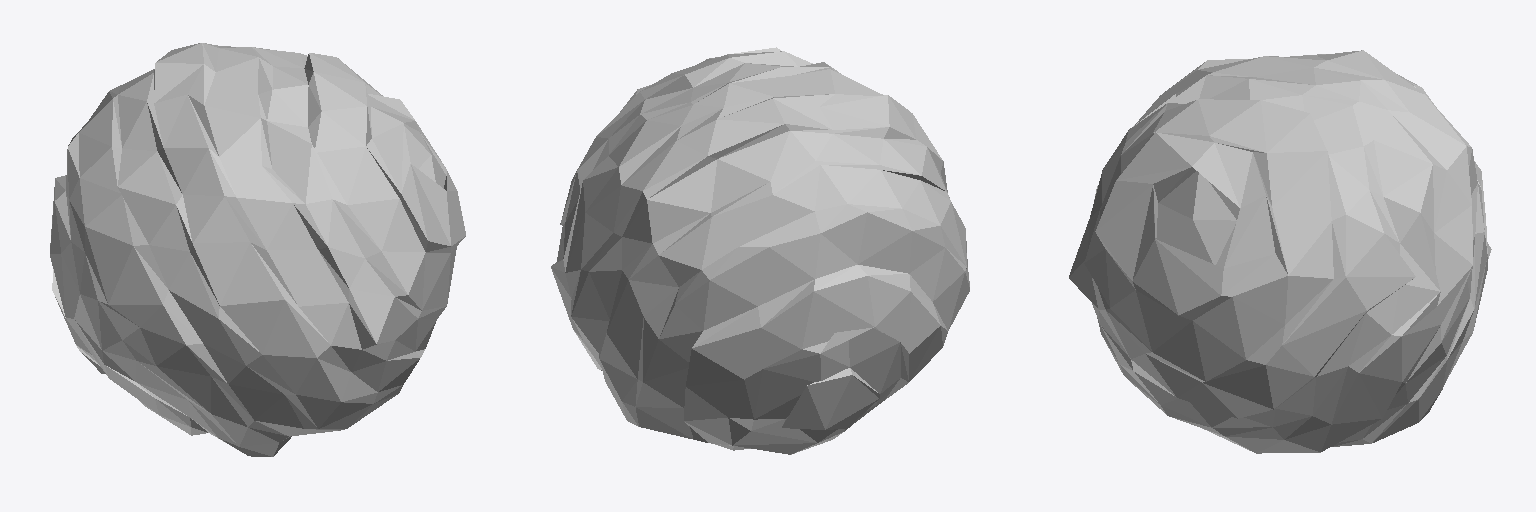
Rendered from jupiter.obj.
3 views of the same model, side by side, from view 1: azimuth 30°, elevation 25°; view 2: azimuth 150°, elevation 25°; view 3: azimuth 270°, elevation 25° (orthographic).
Visible parts, largest first — view 1: Jupiter; view 2: Jupiter; view 3: Jupiter.
Boxes of the visible parts, x1=… form: Jupiter: x1=50, y1=43, x2=465, y2=456; Jupiter: x1=551, y1=47, x2=969, y2=454; Jupiter: x1=1069, y1=50, x2=1491, y2=453.
Size of the model in its own units: 3.93 by 3.85 by 4.06.